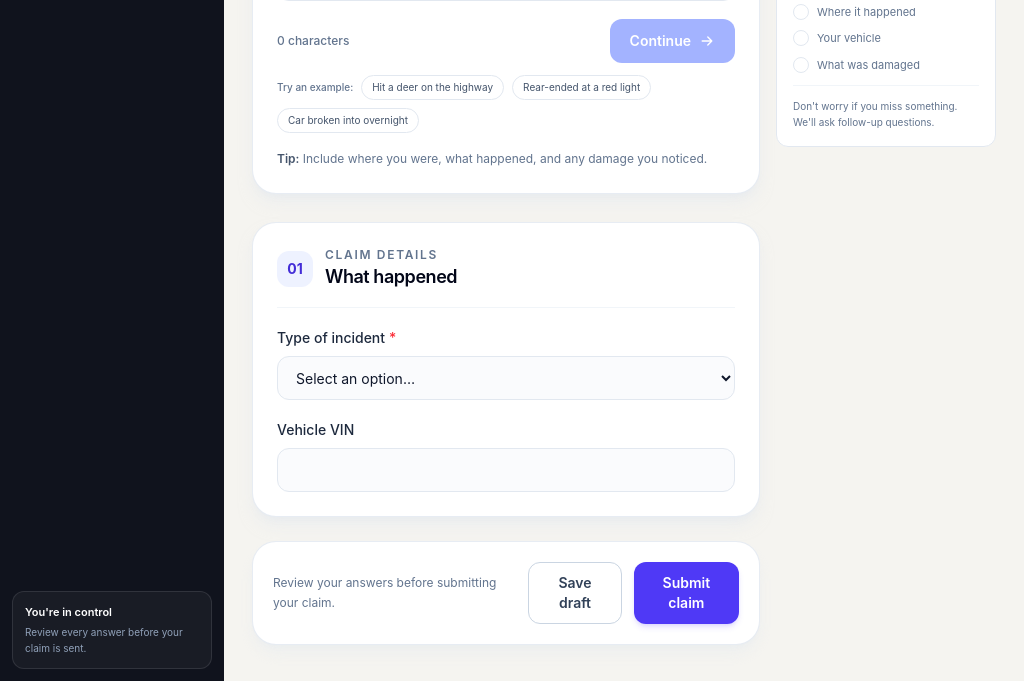
Scenario: ClaimPage draft and submission flow › shows an expired-session message on a 401 response
(page scrolled)
Click the button "Save draft" at (575, 593), box [528,562,622,624]
(page scrolled)
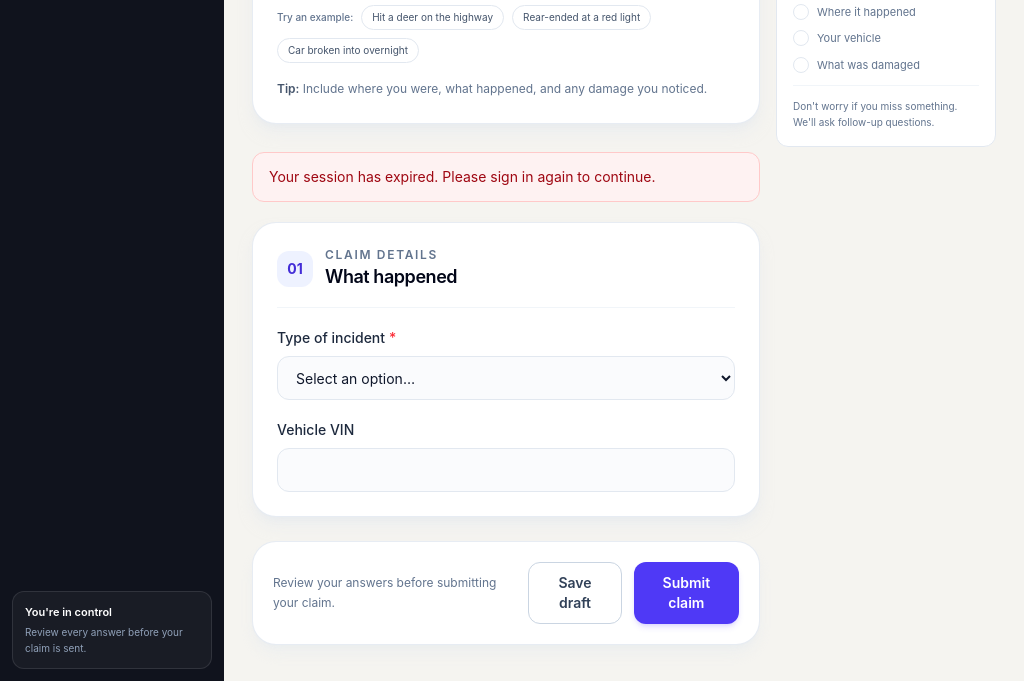
Now the text "Your session has expired. Please sign in again to continue." is shown, box [252,152,760,202]
